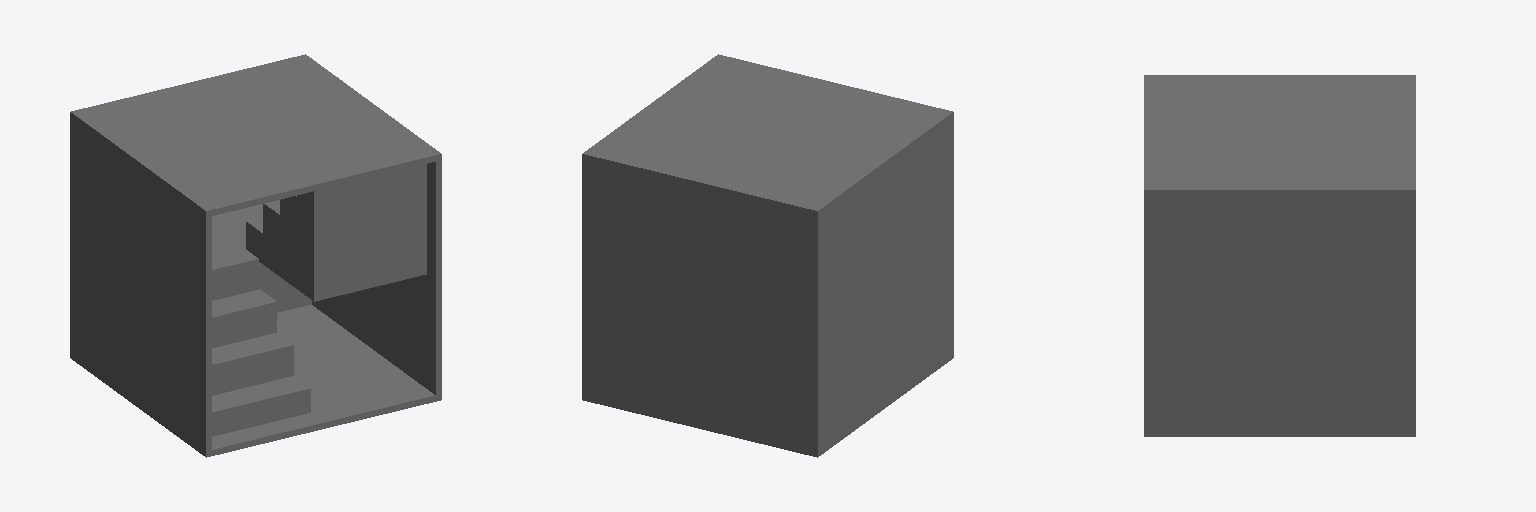
The model's file is stairwell.obj.
The picture shows the model from 3 angles: view 1: azimuth 30°, elevation 25°; view 2: azimuth 150°, elevation 25°; view 3: azimuth 270°, elevation 25°; orthographic projection.
Parts seen in each view (by area): view 1: pCube1, stairs1:stairs, stairs:stairs; view 2: pCube1; view 3: pCube1.
Boxes of the visible parts, box(x1,y1,x2,y2) form: pCube1: box(70, 54, 441, 457); stairs1:stairs: box(246, 164, 426, 301); stairs:stairs: box(212, 246, 310, 436); pCube1: box(582, 54, 953, 457); pCube1: box(1144, 75, 1415, 436).
Bounding box in the file's own units: 2 × 2 × 2.